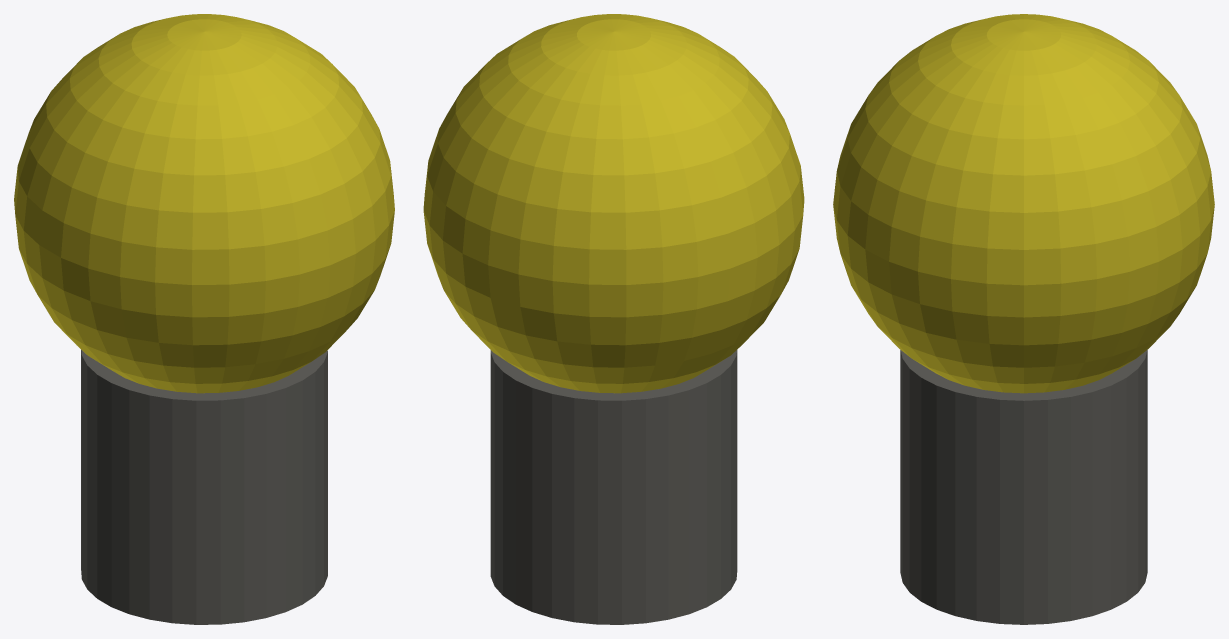
File: lamp.fbx
The picture shows the model from 3 angles, left to right: view 1: azimuth 30°, elevation 25°; view 2: azimuth 150°, elevation 25°; view 3: azimuth 270°, elevation 25°; orthographic projection.
Parts seen in each view (by area): view 1: LAMP; view 2: LAMP; view 3: LAMP.
Part boxes in pixels (left/top/right/bottom): LAMP: left=14, top=14, right=394, bottom=624; LAMP: left=423, top=14, right=804, bottom=624; LAMP: left=833, top=14, right=1214, bottom=624.
Bounding box in the file's own units: 179 × 280 × 179.
